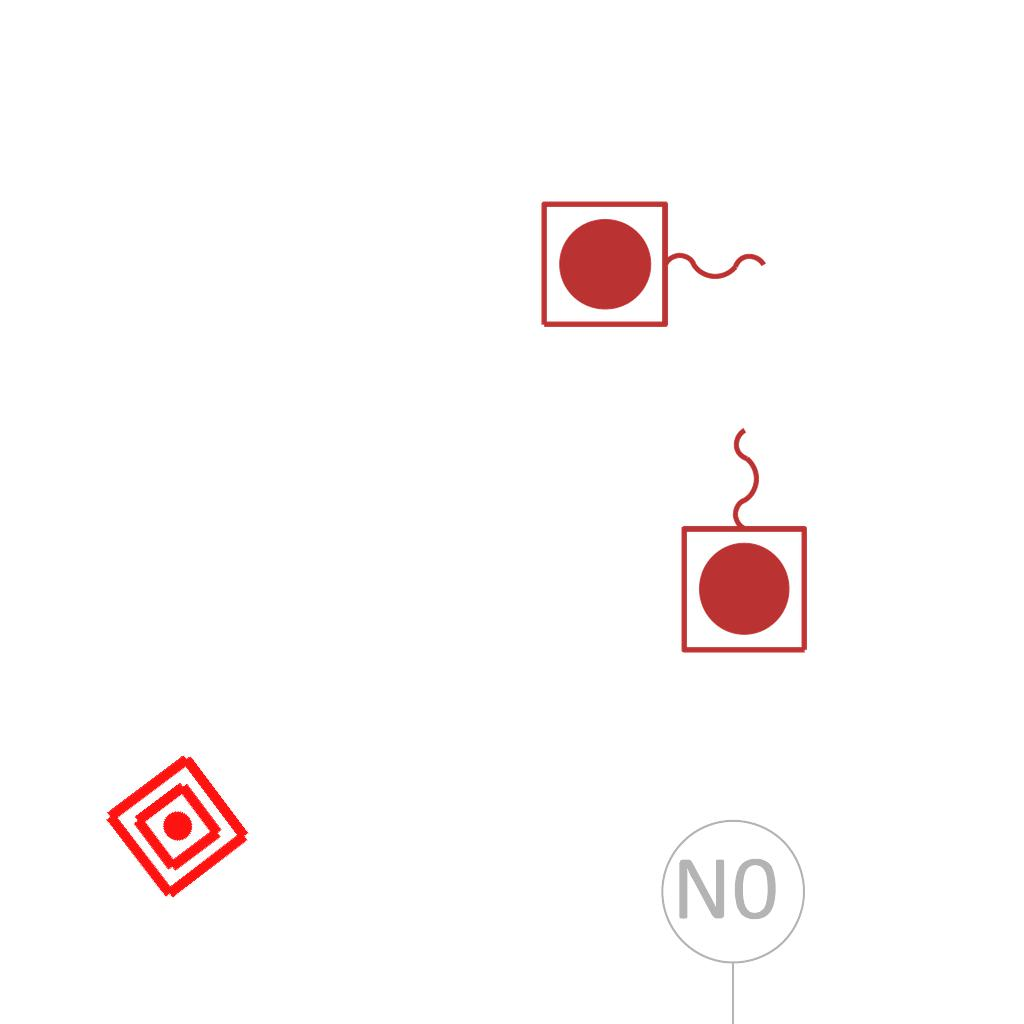NAM-Nichtautomatischer_Melder: (98, 747, 257, 906)
Zugtaster: (674, 417, 818, 661), (533, 194, 777, 338)
